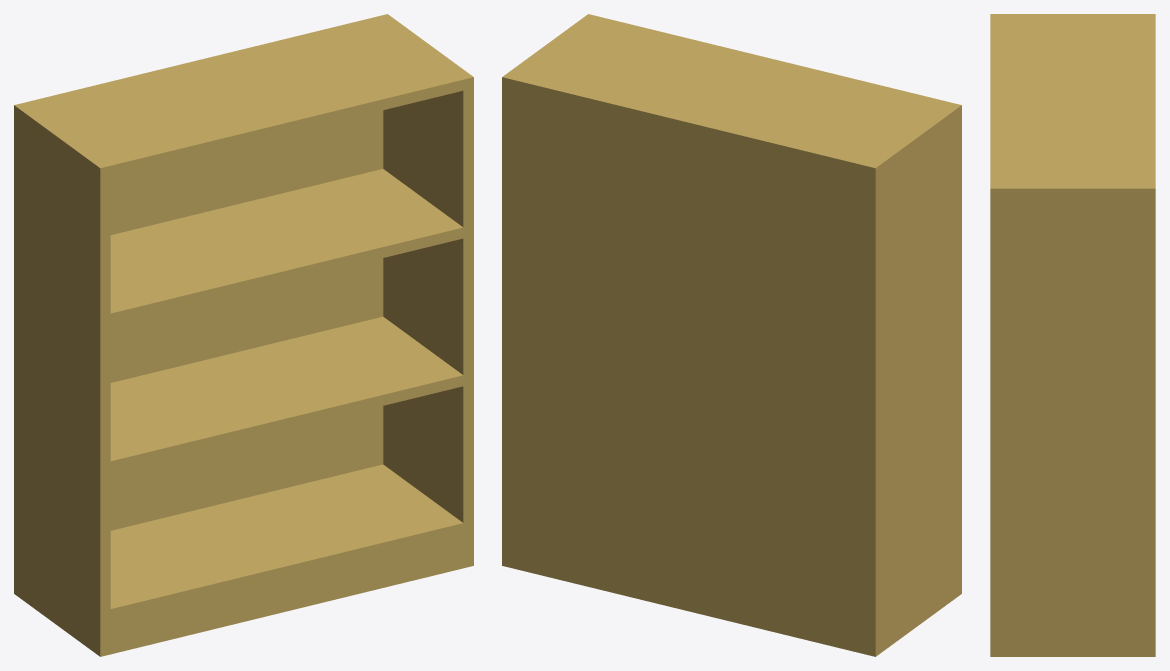
Rendered from SM_BookShelf.fbx.
3 renders of one model, left to right at view 1: azimuth 30°, elevation 25°; view 2: azimuth 150°, elevation 25°; view 3: azimuth 270°, elevation 25°, orthographic. The views are drawn at different scales.
Parts seen in each view (by area): view 1: SM_BookShelf; view 2: SM_BookShelf; view 3: SM_BookShelf.
Boxes of the visible parts, x1,y1,x2,y2 form: SM_BookShelf: [14, 14, 473, 656]; SM_BookShelf: [502, 14, 961, 656]; SM_BookShelf: [990, 14, 1155, 656].
Bounding box in the file's own units: 60 × 75 × 24.
